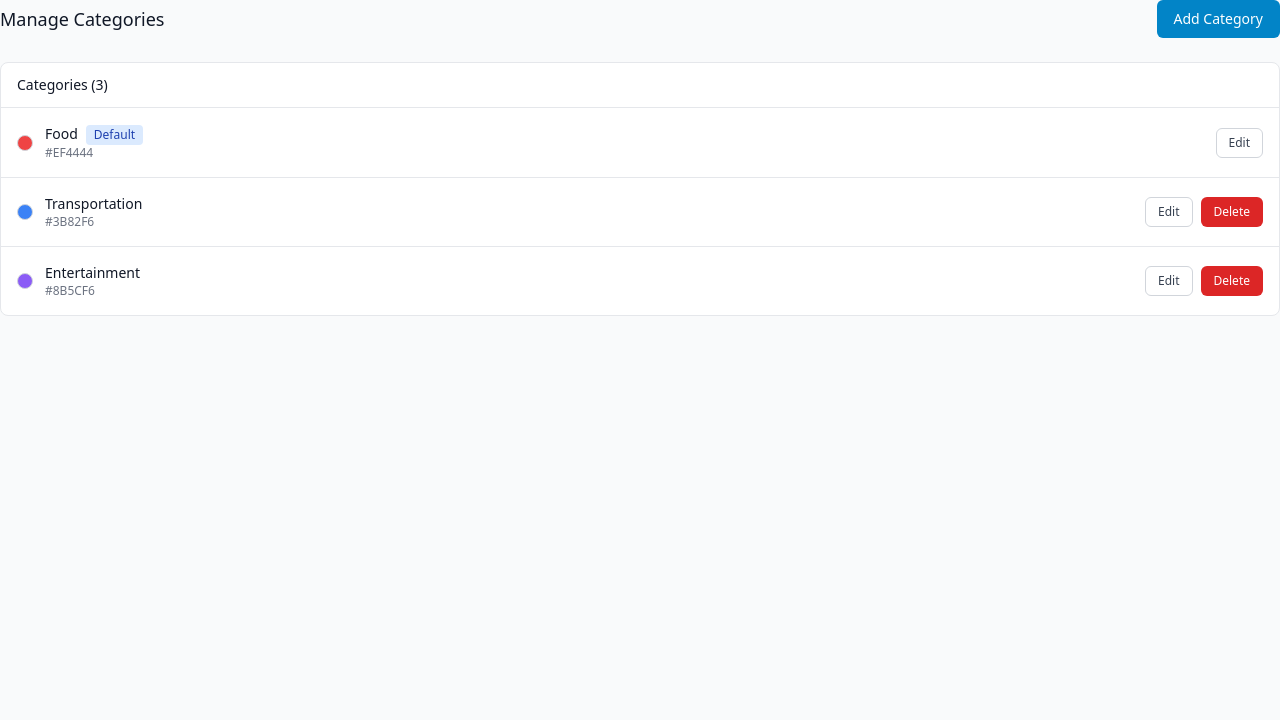
Scenario: CategoryManager › shows delete confirmation modal
The width and height of the screenshot is (1280, 720).
Click delete button for Entertainment category (non-default)
Click the button "Delete" in the row of "Transportation" at [1232, 212], box x1=1200 y1=197 x2=1263 y2=227
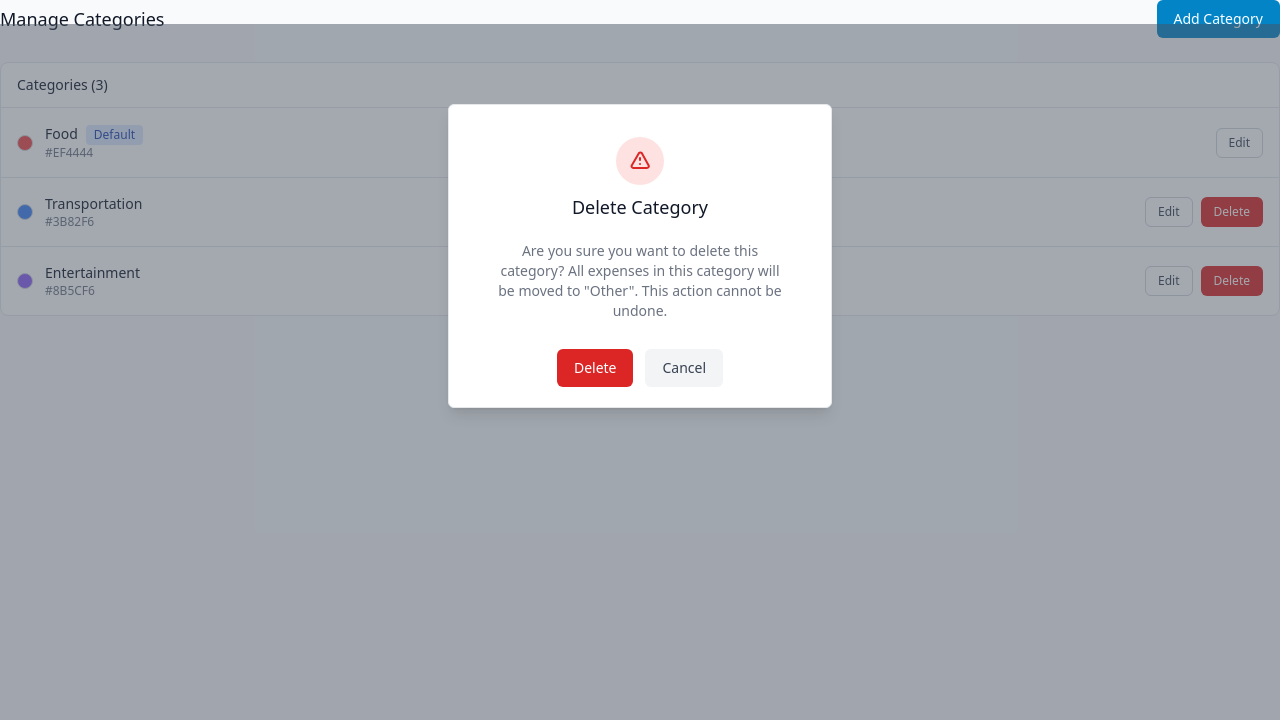
Check: the heading "Delete Category" is shown, box x1=572 y1=195 x2=708 y2=219
Check: the text "Are you sure you want to delete this category" is shown, box x1=498 y1=241 x2=782 y2=320
